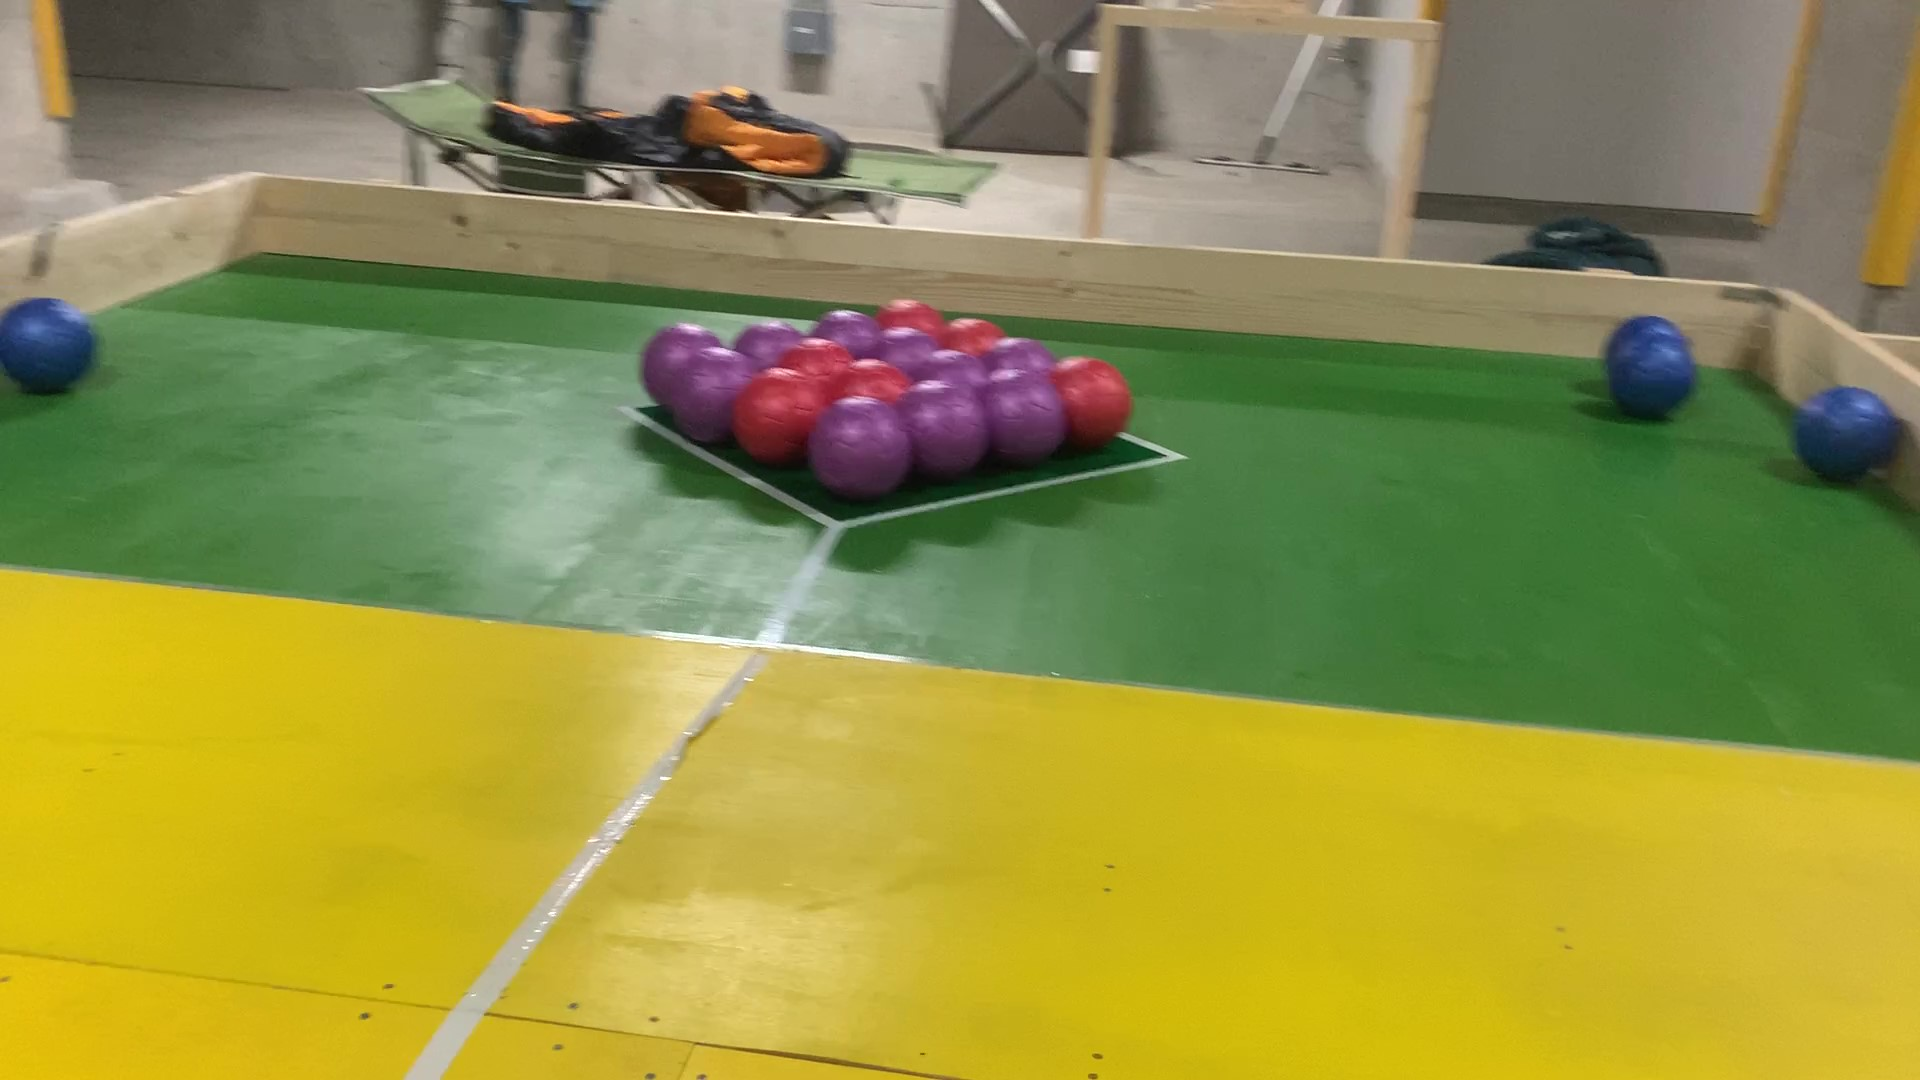blue: (1797, 390, 1883, 476), (11, 303, 88, 382), (1625, 342, 1687, 411), (1622, 320, 1677, 336)
purple: (986, 376, 1067, 455), (827, 402, 891, 484), (909, 393, 978, 463), (684, 357, 741, 431), (647, 336, 680, 407), (882, 330, 942, 356), (822, 313, 874, 342), (744, 324, 796, 347), (931, 359, 986, 380), (998, 348, 1046, 369)
red: (742, 380, 818, 450), (1068, 361, 1126, 438), (844, 364, 894, 394), (787, 347, 848, 371), (945, 322, 998, 345), (880, 303, 932, 324)
